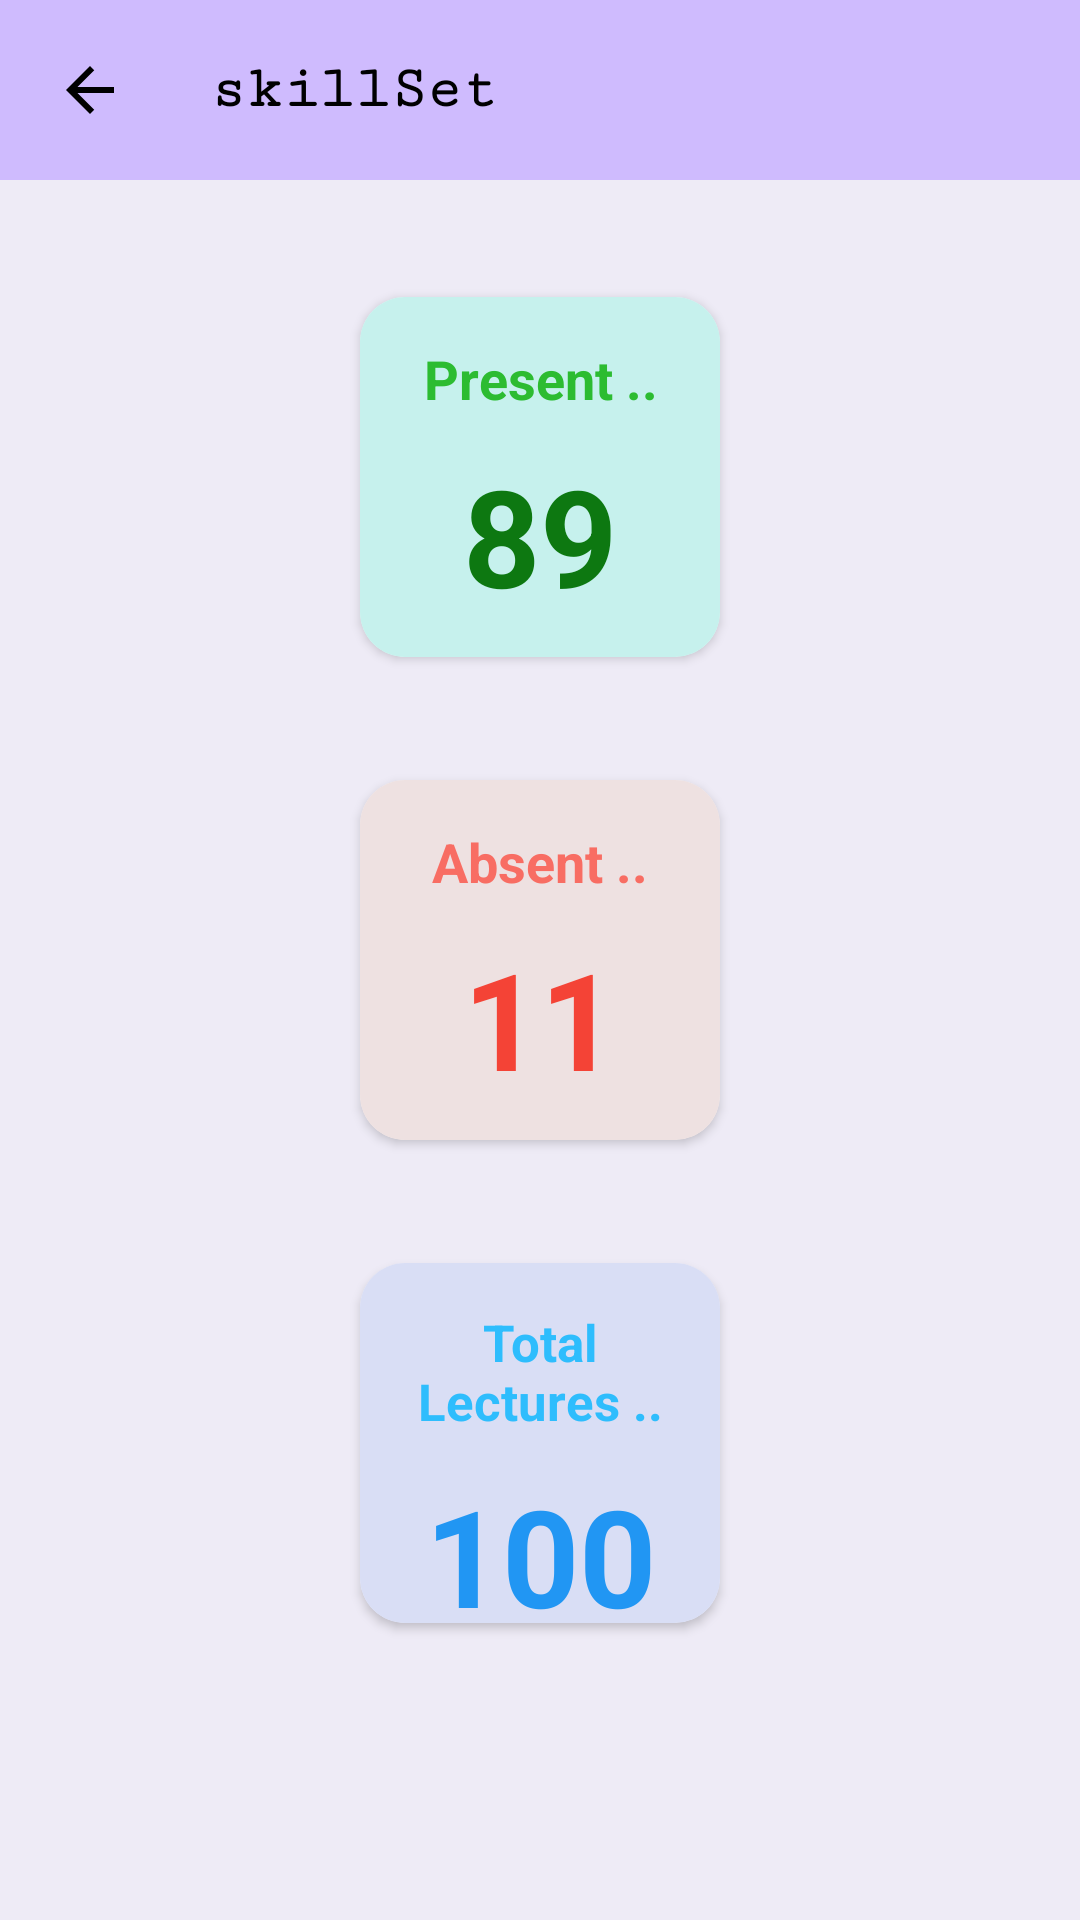

Screen size 1080 x 1920. Icon name, then its box in pixels as rect(x1, y1, x2, y2):
file back: rect(66, 66, 114, 114)
